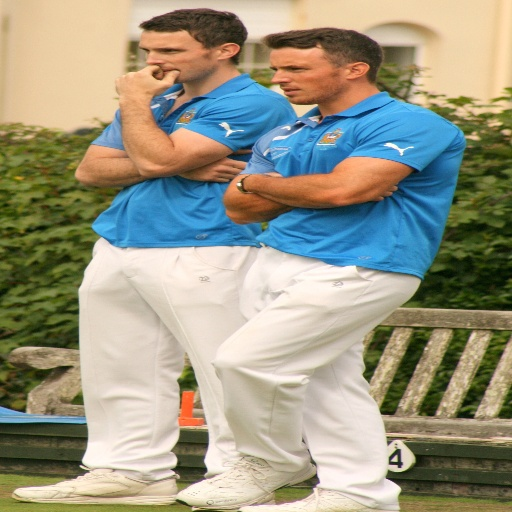hand: (180, 148, 254, 184), (111, 57, 163, 105), (368, 184, 400, 203)
